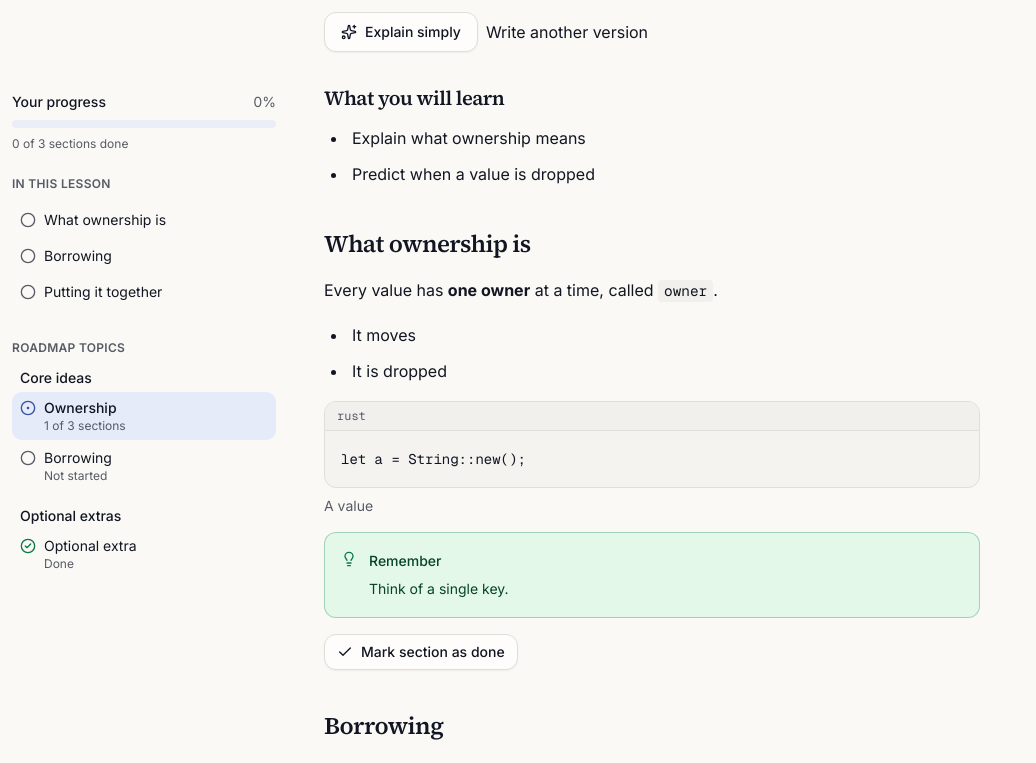
Test: Explain simply › works without an analogy and makes no request to the server
Click the button "Explain simply": point(401, 32) [324,12,478,52]
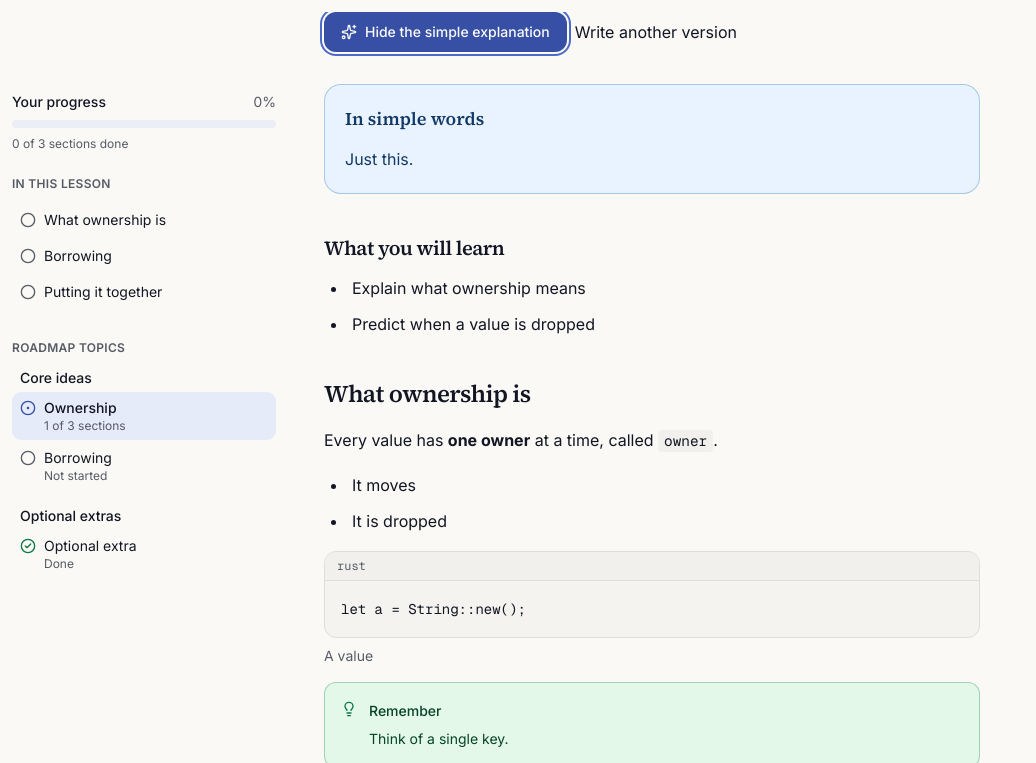
Expected: the text "Just this." is shown, [345,149,413,169]
